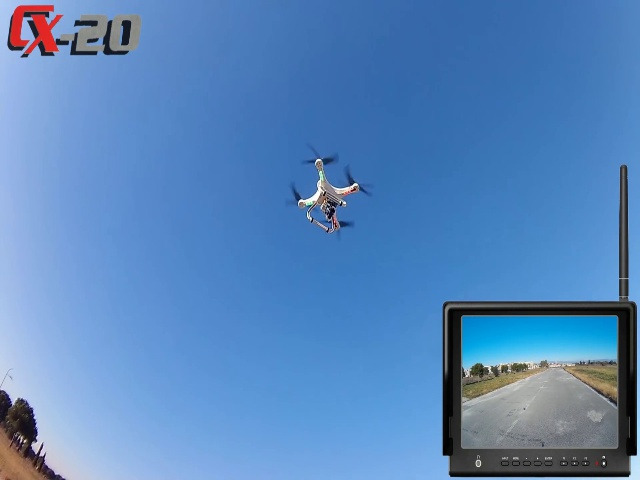drone: (280, 155, 369, 244)
